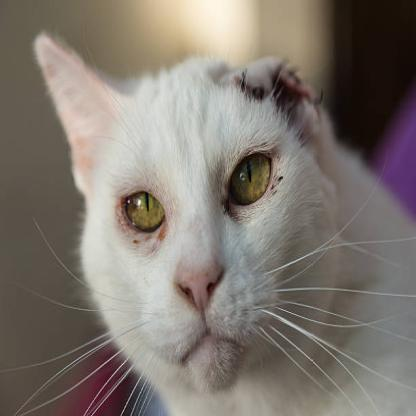cat: (29, 29, 412, 373)
injured: (231, 60, 333, 164)
